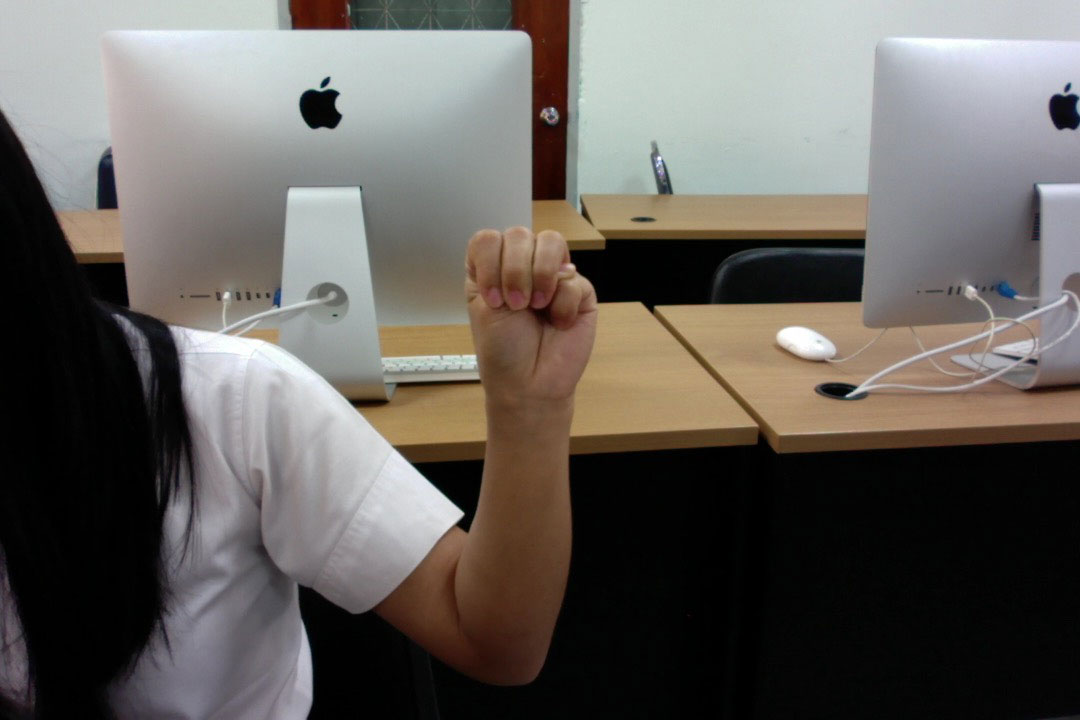mor: (451, 217, 605, 417)
